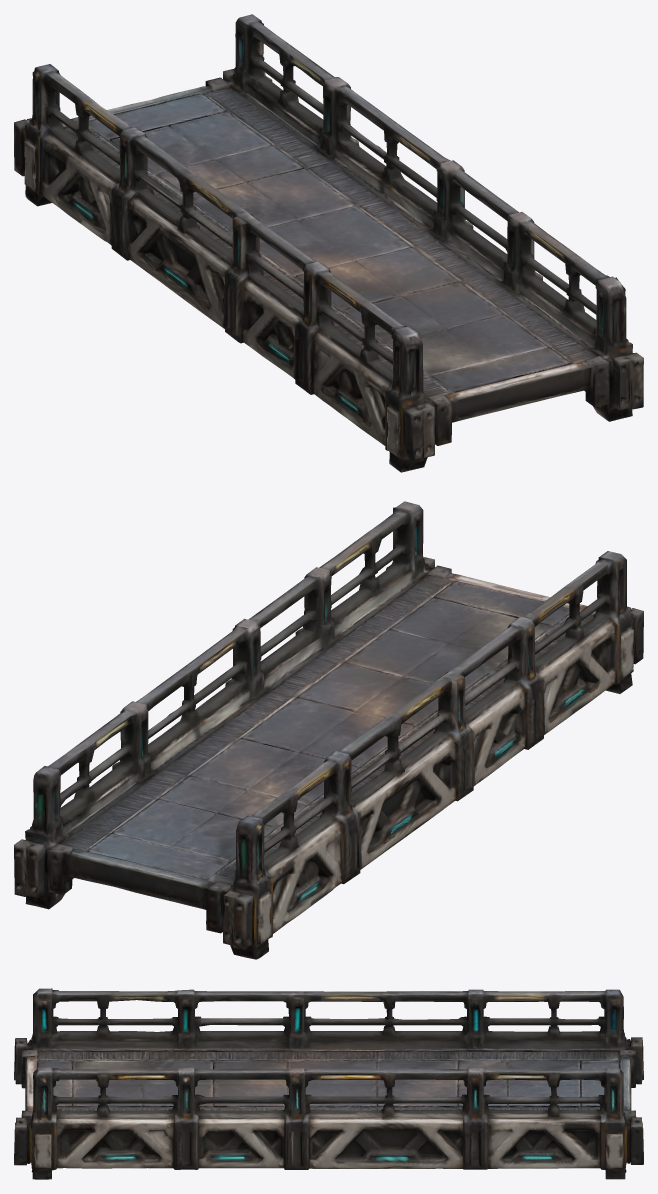
The model's file is kairox-catwalk.glb.
The picture shows the model from 3 angles, top to bottom: view 1: azimuth 30°, elevation 25°; view 2: azimuth 150°, elevation 25°; view 3: azimuth 270°, elevation 25°; orthographic projection. The views are drawn at different scales.
Visible parts, largest first — view 1: kairox-catwalk; view 2: kairox-catwalk; view 3: kairox-catwalk.
Boxes of the visible parts, x1,y1,x2,y2 form: kairox-catwalk: (14, 14, 643, 472); kairox-catwalk: (14, 501, 643, 959); kairox-catwalk: (14, 988, 643, 1179).
Size of the model in its own units: 2.76 by 1.48 by 8.
1 material, 1 textured.
